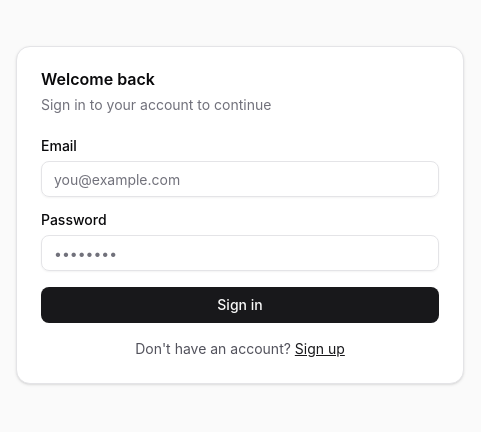
Test case: Authentication Flow › should show error for invalid login credentials
This screenshot has width=481, height=432.
Type "wrong@example.com" into the field with id "email".
click(240, 179); type("wrong@example.com")  # box [41,161,439,197]
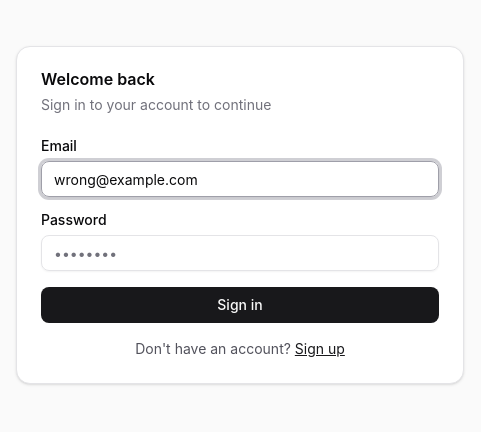
Type "WrongPassword123!" into the password field labelled "Password".
click(240, 253); type("WrongPassword123!")  # box [41,235,439,271]
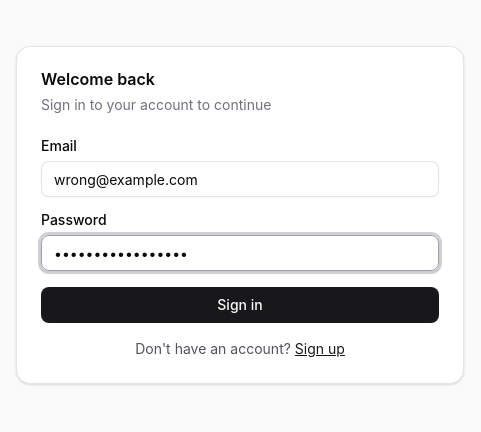
Click the submit button.
click(240, 305)  # box [41,287,439,323]
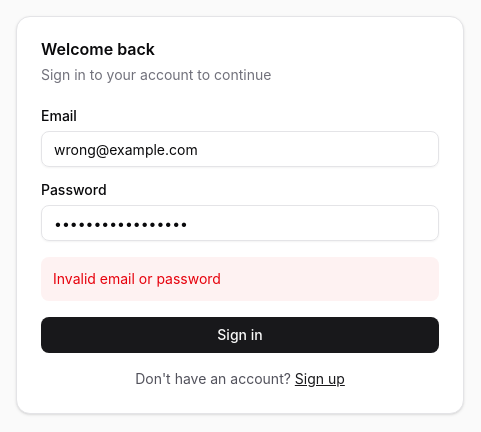
Expected: the text "Invalid email or password" is shown, [53,270,221,287]
